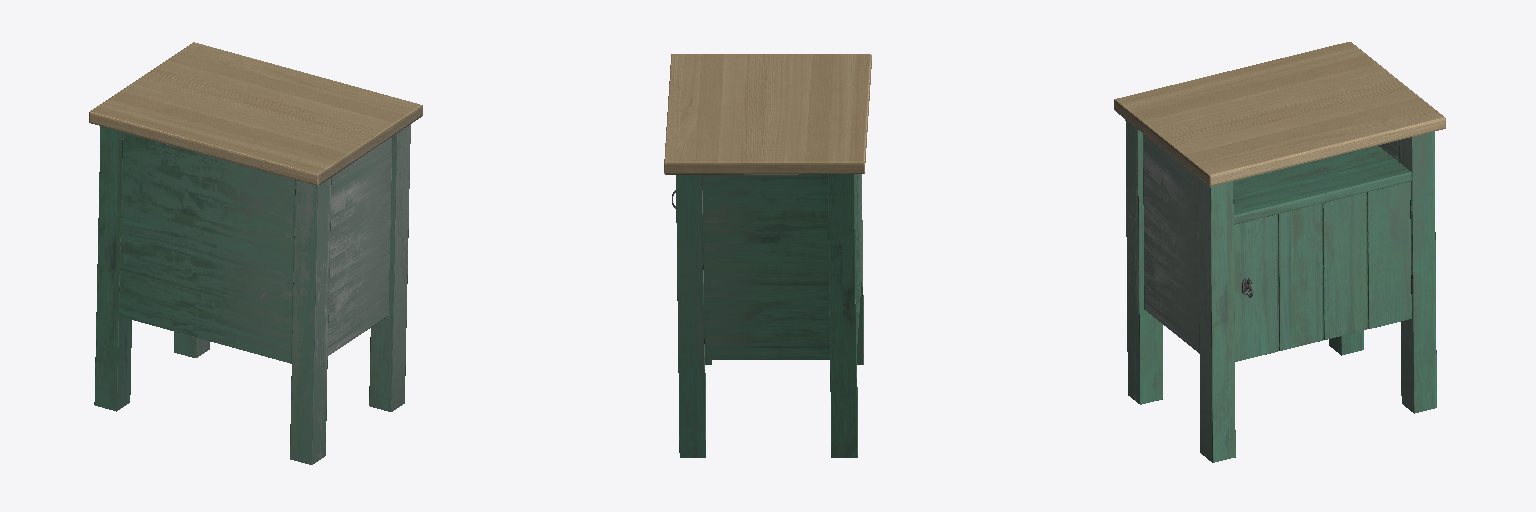
3 views of the same model, side by side, from view 1: azimuth 30°, elevation 25°; view 2: azimuth 150°, elevation 25°; view 3: azimuth 270°, elevation 25° (orthographic).
Visible parts, largest first — view 1: solid_001, solid_003, solid_002; view 2: solid_003, solid_001, solid_002; view 3: solid_001, solid_003, solid_002.
Boxes of the visible parts, <box> form: solid_001: <box>119,132,391,363</box>; solid_003: <box>89,42,422,185</box>; solid_002: <box>94,124,410,464</box>; solid_003: <box>664,54,871,174</box>; solid_001: <box>702,174,861,359</box>; solid_002: <box>676,174,863,457</box>; solid_001: <box>1143,134,1411,361</box>; solid_003: <box>1114,42,1445,186</box>; solid_002: <box>1125,119,1436,462</box>.
Size of the model in its own units: 0.5792 by 0.6341 by 0.6321.
Materials: 1 (1 with a texture image).